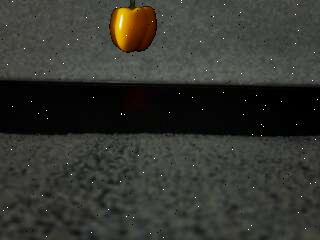Capsicum: (108, 0, 159, 55)
